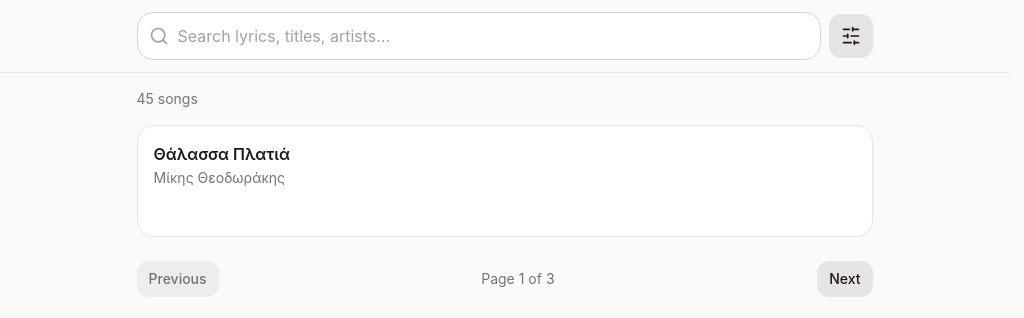
Test: BrowsePage pagination › advances to the next page and stays there
Click the button "Next".
click(845, 279)  # box [817,261,872,297]
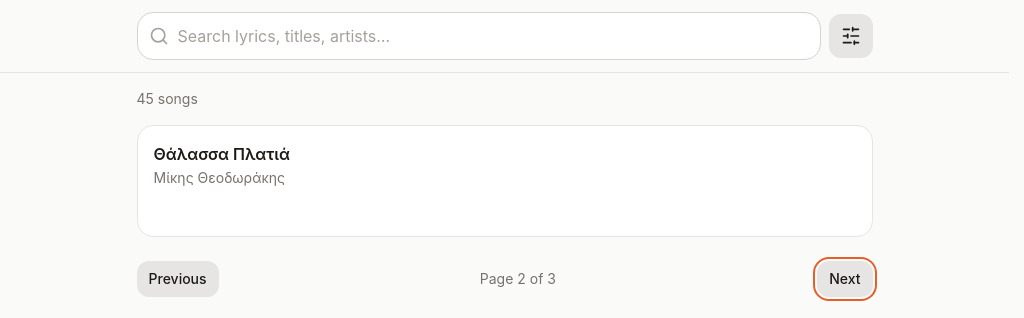
Now the text "Page 2 of 3" is shown, box [480,269,556,289]
